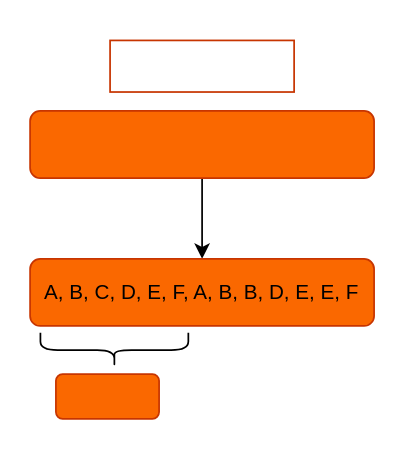
Image size: 404x449. Some labels were removed from this diagram. The box of each missing label's shape, as (x1, y1, x2, y2) in pixels:
A, A, B, B, B, C, D, D, E, E, E, F, F: (28, 109, 374, 178)
return 6: (54, 372, 159, 419)
